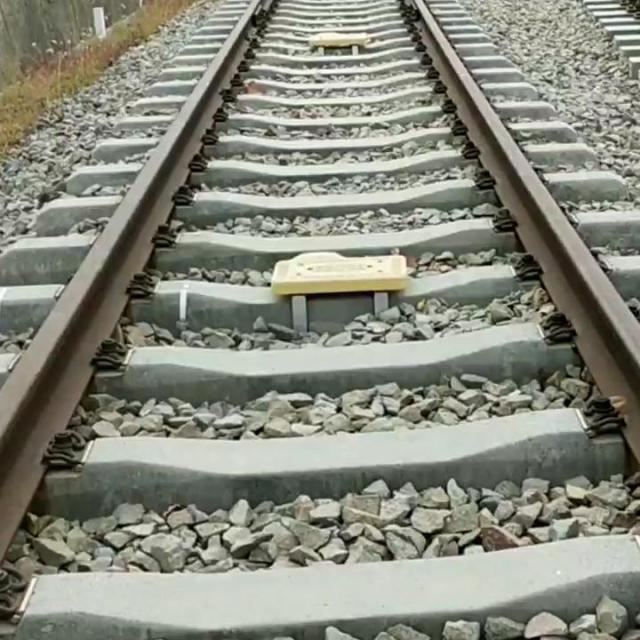rail: (1, 1, 264, 557), (416, 1, 640, 463)
